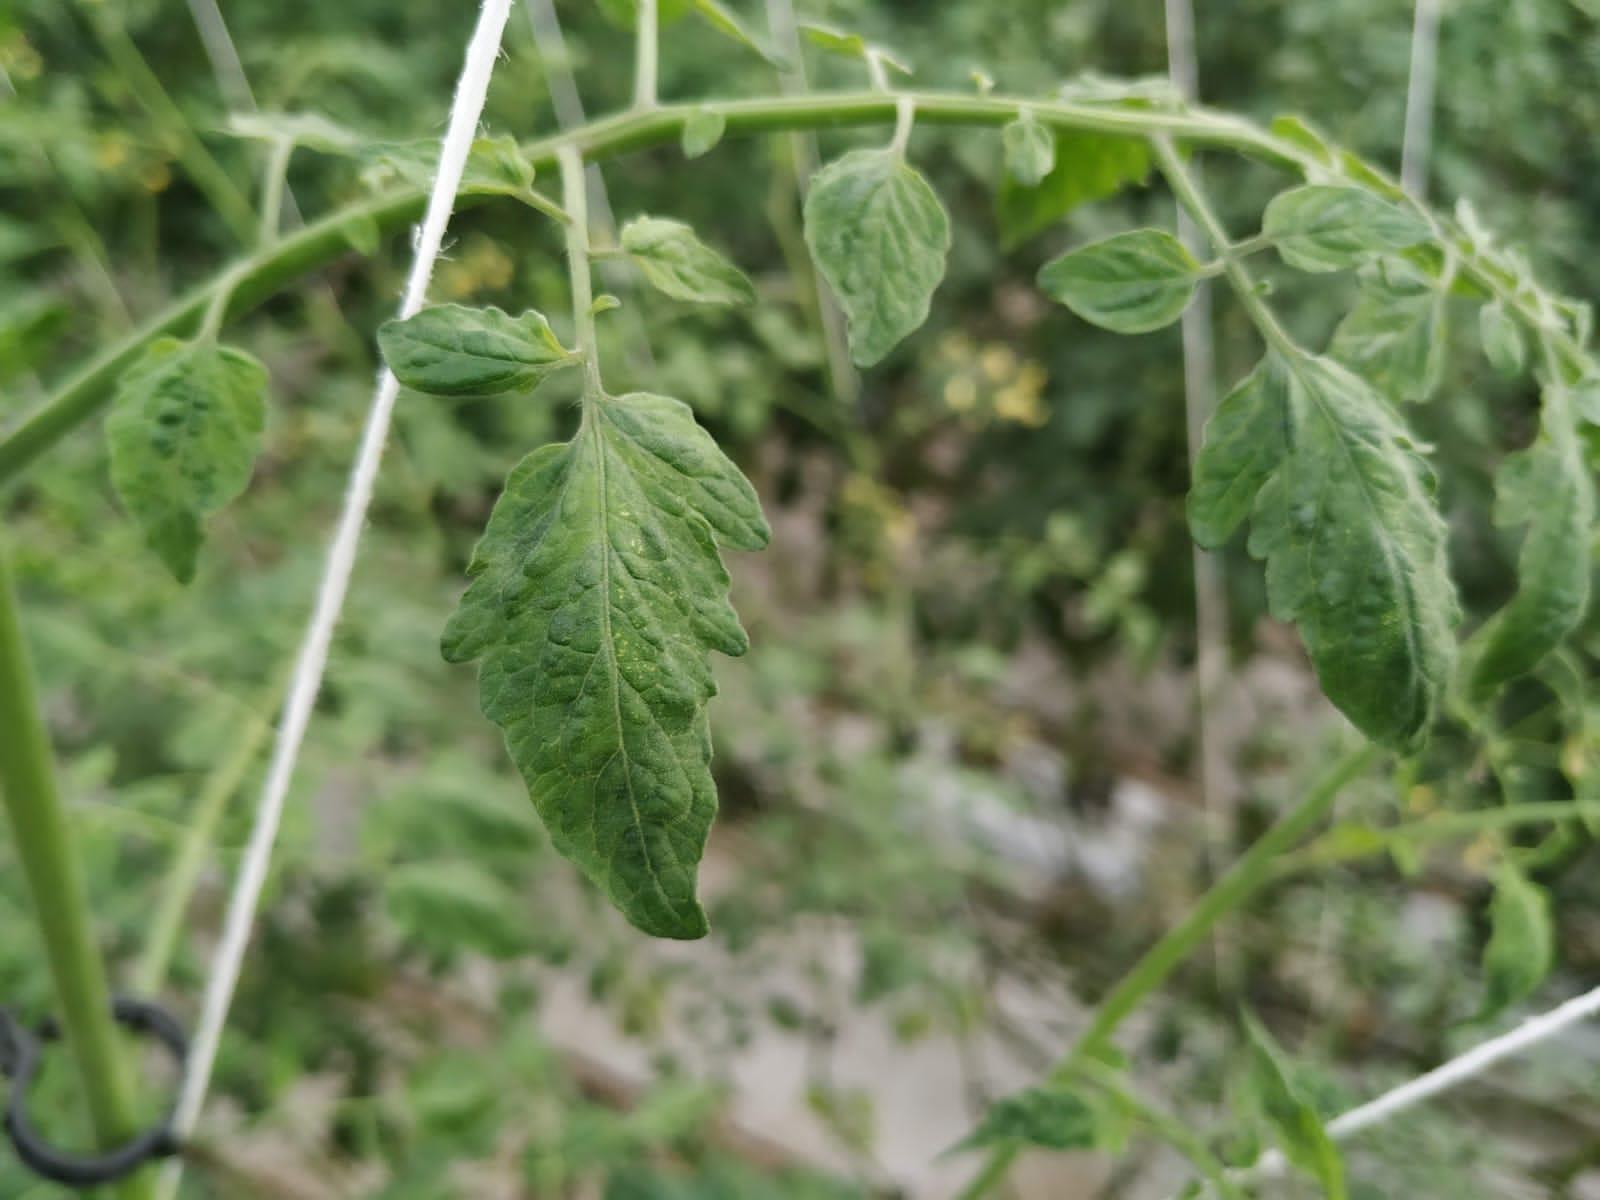Hoja rugoso: (441, 389, 769, 938), (1191, 345, 1458, 747), (804, 145, 950, 363), (372, 303, 571, 392)
